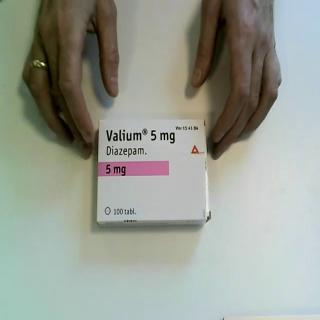valium5mg: (96, 118, 214, 230)
